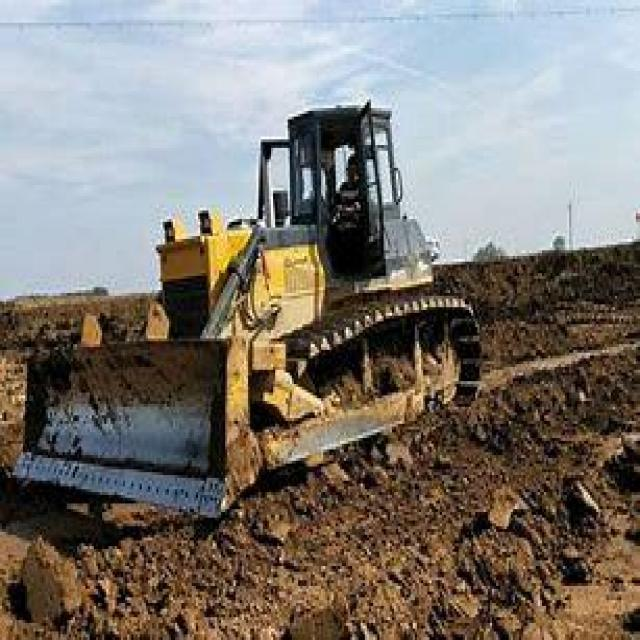Bulldozer: (6, 74, 509, 520)
